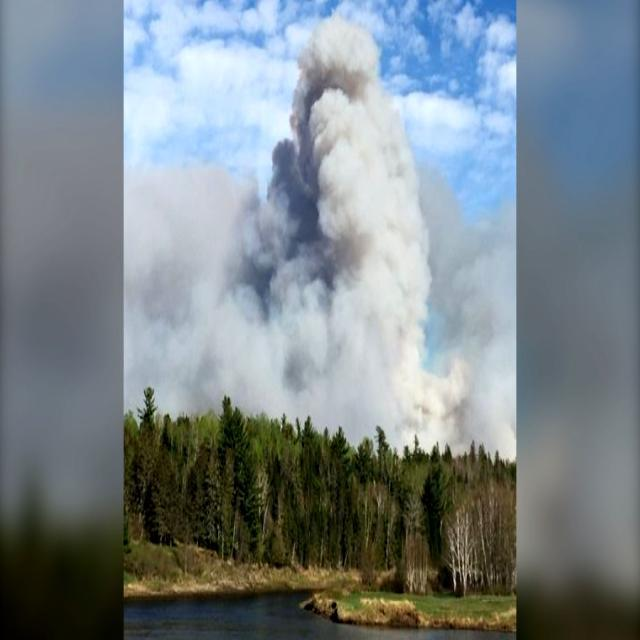Smoke: (216, 7, 427, 461)
